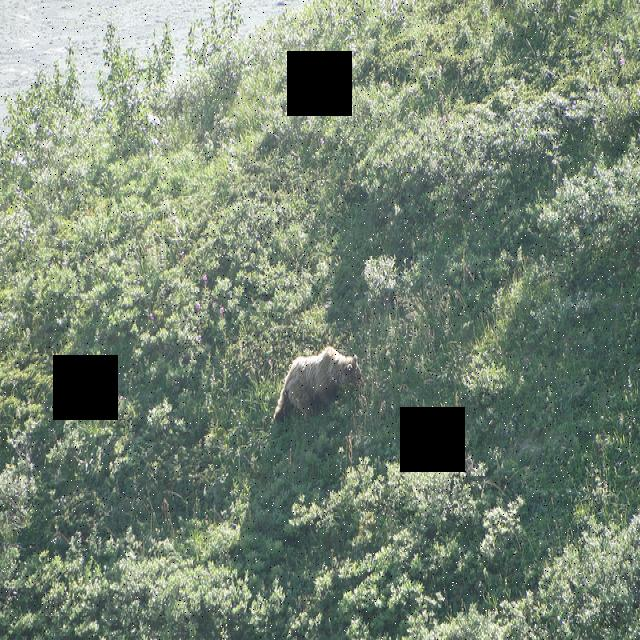Bear: (271, 342, 366, 418)
